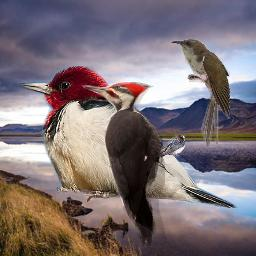Cuckoo: (171, 38, 230, 146)
Swallow: (156, 135, 185, 158)
Woodpecker: (17, 66, 239, 208), (81, 82, 168, 246)
